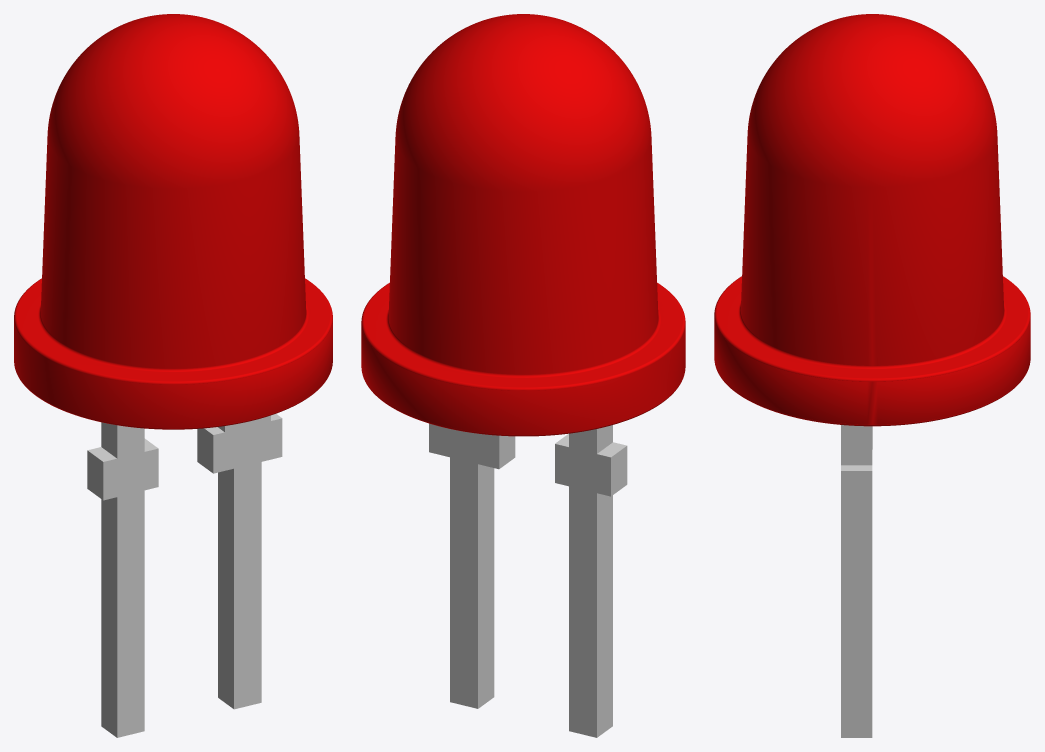
File: LedRed.gltf
3 renders of one model, left to right at view 1: azimuth 30°, elevation 25°; view 2: azimuth 150°, elevation 25°; view 3: azimuth 270°, elevation 25°, orthographic. The views are drawn at different scales.
Parts seen in each view (by area): view 1: Âûðåç-Âûòÿíóòü1, Áîáûøêà-Âûòÿíóòü1.001, Áîáûøêà-Âûòÿíóòü1; view 2: Âûðåç-Âûòÿíóòü1, Áîáûøêà-Âûòÿíóòü1.001, Áîáûøêà-Âûòÿíóòü1; view 3: Âûðåç-Âûòÿíóòü1, Áîáûøêà-Âûòÿíóòü1.
Part boxes in pixels (<box>): Âûðåç-Âûòÿíóòü1: <box>14,14,332,429</box>; Áîáûøêà-Âûòÿíóòü1.001: <box>87,422,158,737</box>; Áîáûøêà-Âûòÿíóòü1: <box>197,414,282,709</box>; Âûðåç-Âûòÿíóòü1: <box>361,14,685,436</box>; Áîáûøêà-Âûòÿíóòü1.001: <box>555,425,627,737</box>; Áîáûøêà-Âûòÿíóòü1: <box>429,423,515,708</box>; Âûðåç-Âûòÿíóòü1: <box>714,14,1030,426</box>; Áîáûøêà-Âûòÿíóòü1: <box>841,425,872,737</box>.
Bounding box in the file's own units: 0.0126 × 0.0298 × 0.0126.
